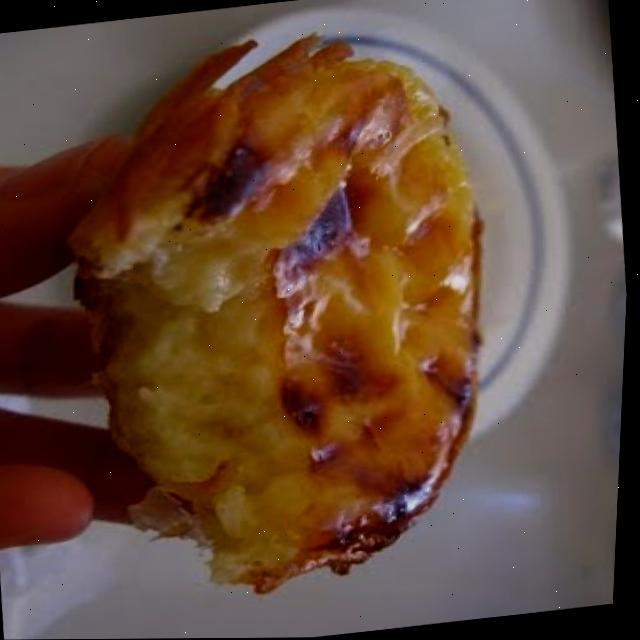炸货点心: (36, 8, 540, 618)
蛋糕甜品: (36, 8, 540, 618)
